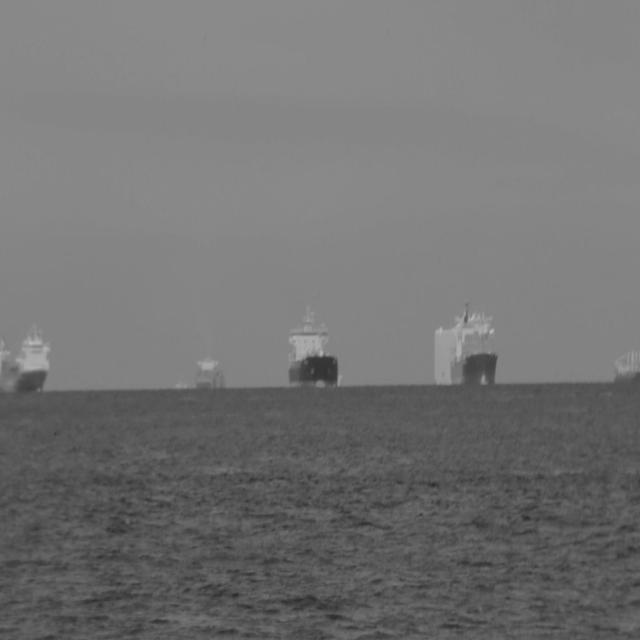ship: (291, 310, 343, 390), (454, 297, 499, 388), (1, 336, 51, 394), (433, 328, 459, 387)
